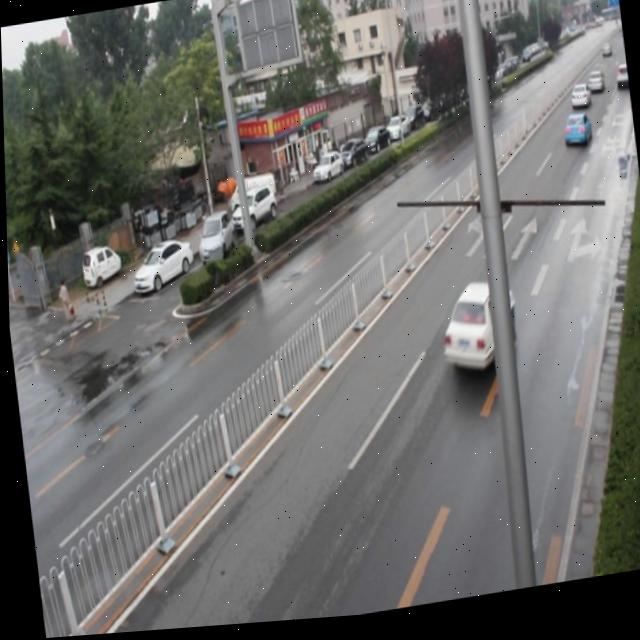car: (432, 280, 520, 386), (558, 118, 591, 158)
